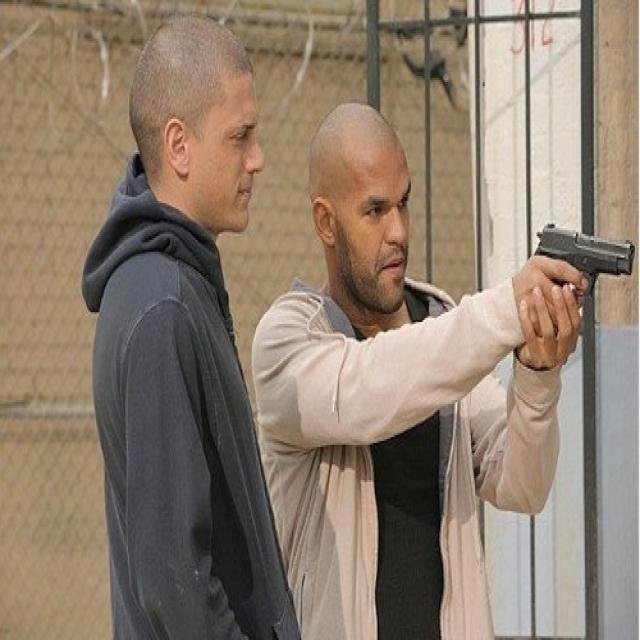weapons: (526, 203, 635, 357)
